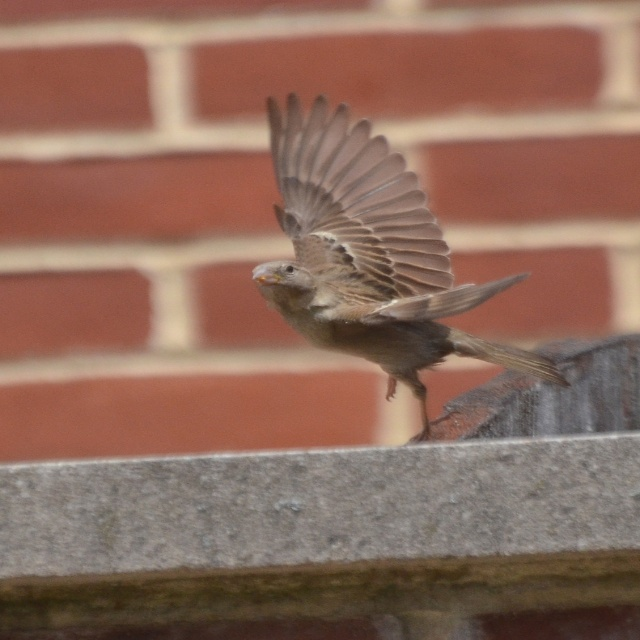Sparrow: (252, 91, 571, 442)
